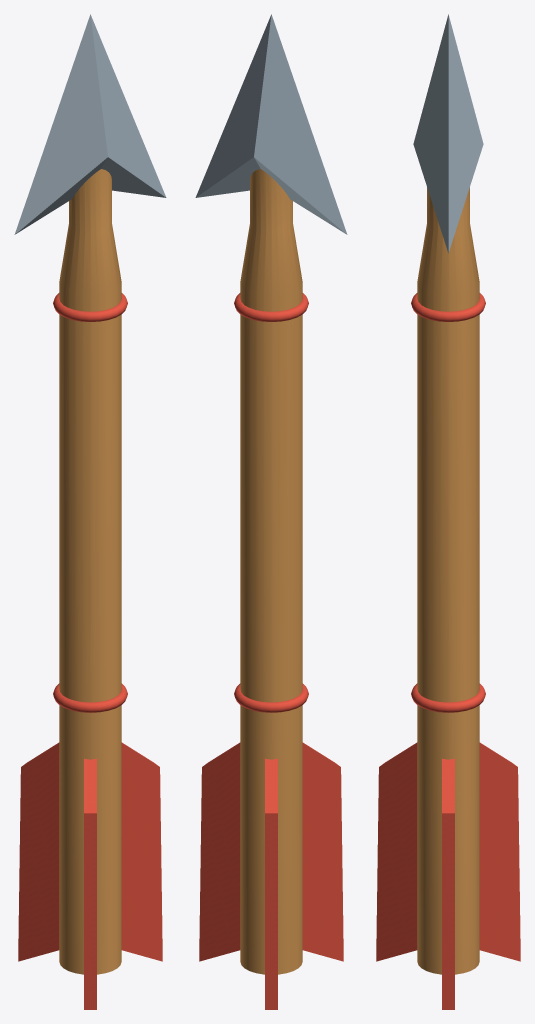
Rendered from ARROW.glb.
3 views of the same model, side by side, from view 1: azimuth 30°, elevation 25°; view 2: azimuth 150°, elevation 25°; view 3: azimuth 270°, elevation 25° (orthographic).
Visible parts, largest first — view 1: ARROW; view 2: ARROW; view 3: ARROW.
Part boxes in pixels (<box>): ARROW: <box>14,14,166,1009</box>; ARROW: <box>195,14,347,1009</box>; ARROW: <box>376,14,520,1009</box>.
Bounding box in the file's own units: 0.11 × 0.665 × 0.0906.
3 materials, 2 textured.
